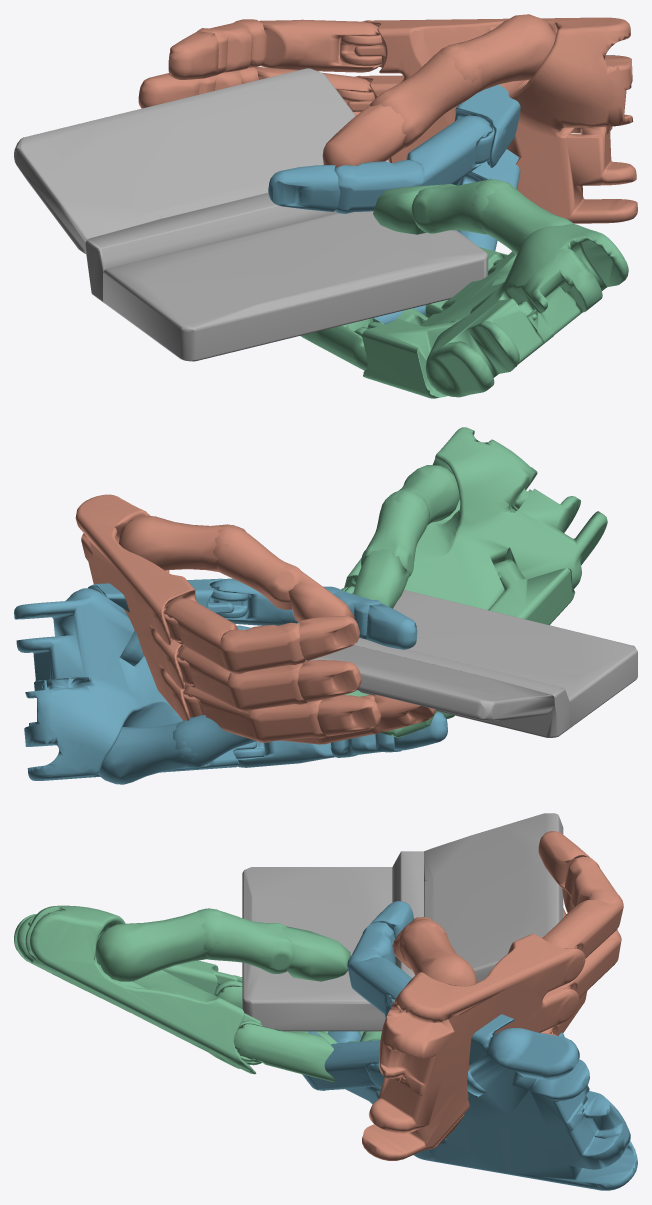
The picture shows the model from 3 angles, top to bottom: view 1: azimuth 30°, elevation 25°; view 2: azimuth 150°, elevation 25°; view 3: azimuth 270°, elevation 25°; orthographic projection. The views are drawn at different scales.
Bounding box in the file's own units: 0.245 × 0.1163 × 0.2702.
